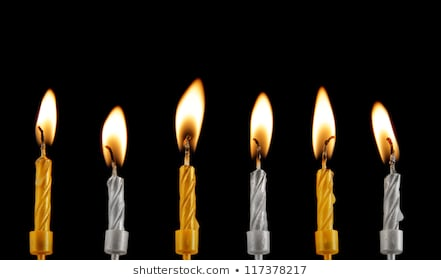Fire: (240, 88, 276, 163), (174, 74, 205, 151), (307, 85, 337, 160), (369, 101, 402, 164), (100, 106, 129, 165), (31, 90, 58, 144)
